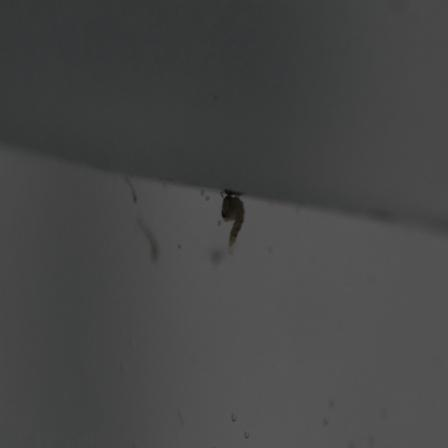Jentik-Nyamuk: (213, 187, 247, 252)
